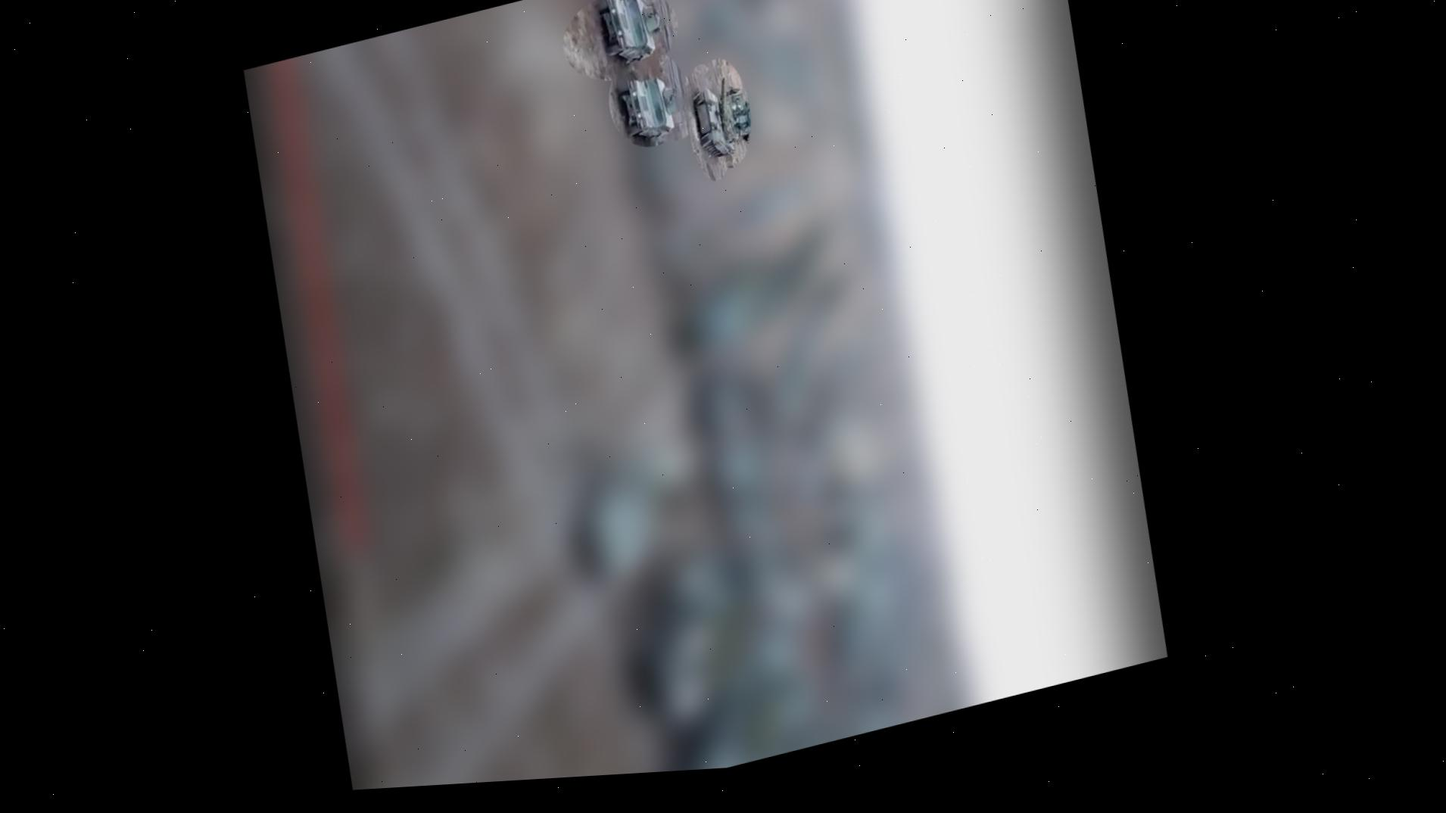armored_car: (591, 0, 669, 73), (610, 69, 681, 149)
tank: (684, 72, 752, 164)
